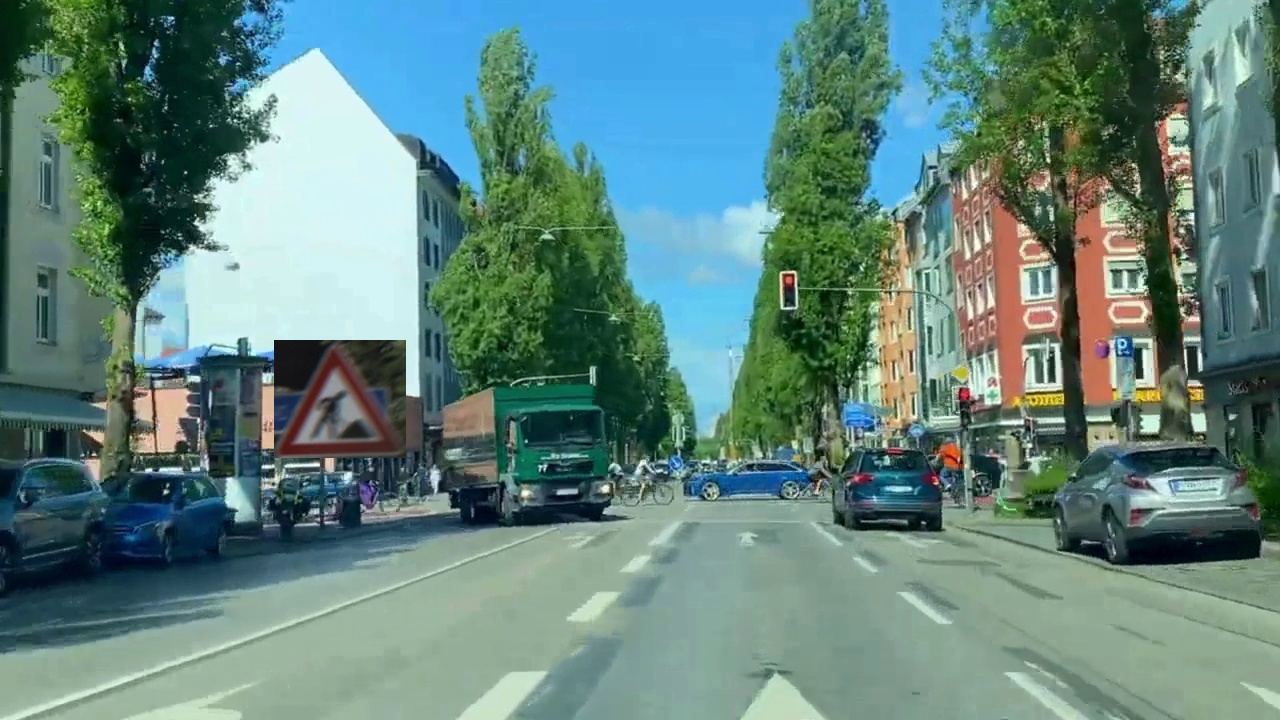Road work: (274, 340, 406, 458)
